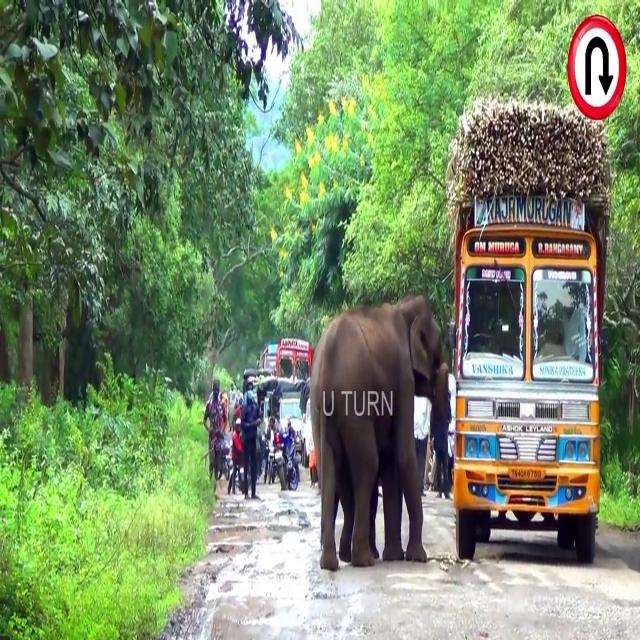Elephant: (310, 292, 450, 572)
